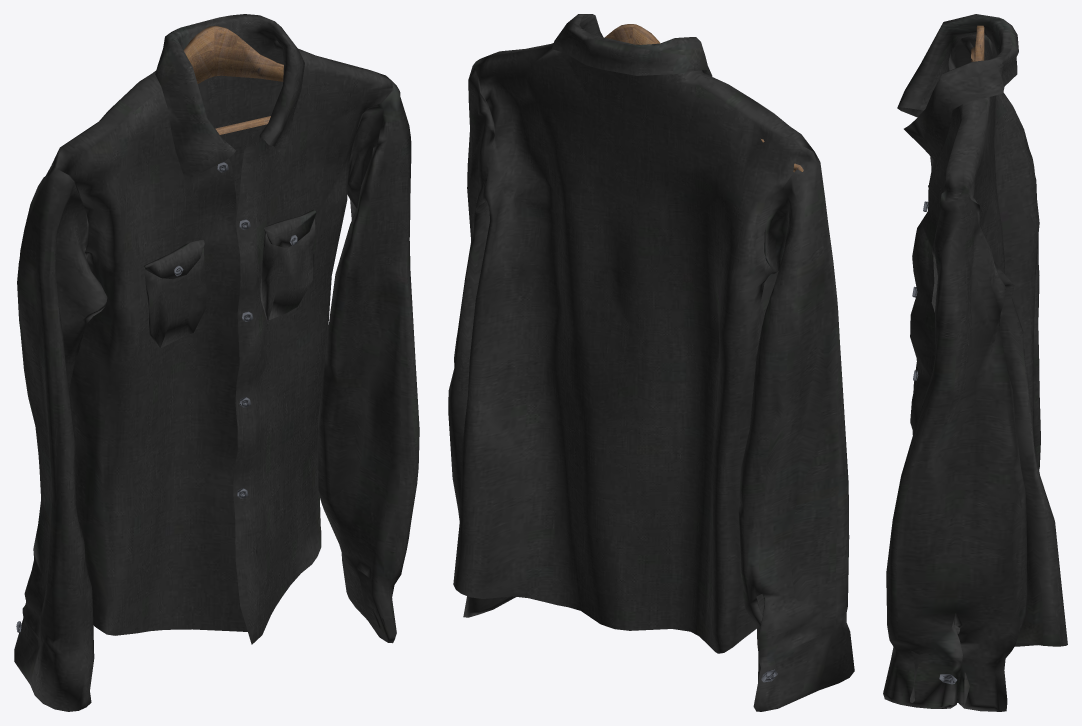
File: hvtop_shirt008.glb
3 renders of one model, left to right at view 1: azimuth 30°, elevation 25°; view 2: azimuth 150°, elevation 25°; view 3: azimuth 270°, elevation 25°, orthographic. The views are drawn at different scales.
Visible parts, largest first — view 1: shirt008_StaticMeshComponent0; view 2: shirt008_StaticMeshComponent0; view 3: shirt008_StaticMeshComponent0.
Boxes of the visible parts, <box> form: shirt008_StaticMeshComponent0: <box>14,14,419,711</box>; shirt008_StaticMeshComponent0: <box>448,14,854,711</box>; shirt008_StaticMeshComponent0: <box>883,14,1067,711</box>.
Bounding box in the file's own units: 0.4898 × 0.776 × 0.2134.
3 materials, 3 textured.
